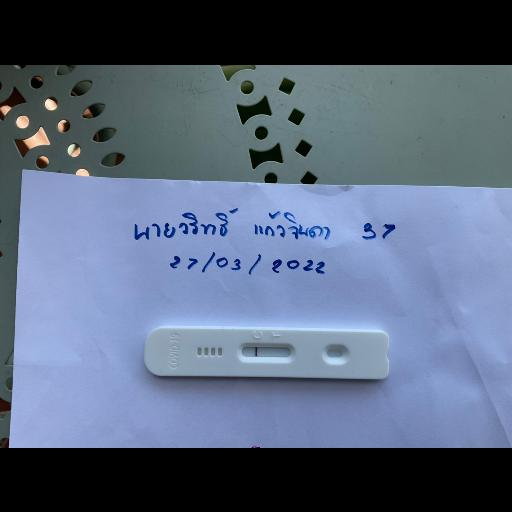Neg: (145, 325, 387, 377)
